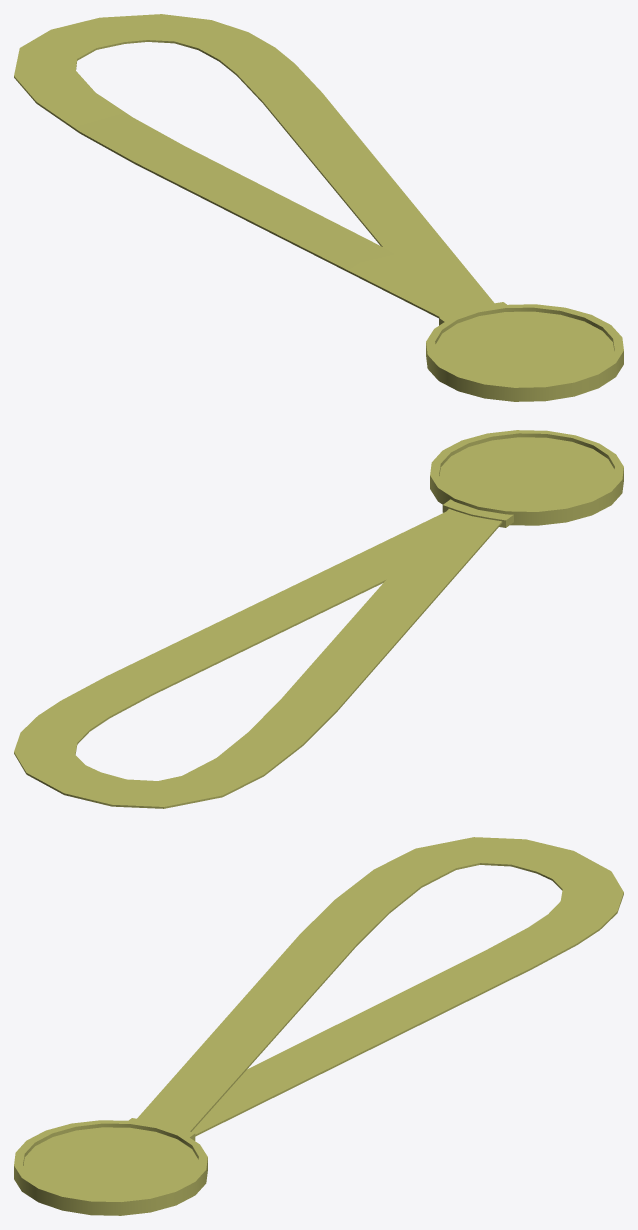
Rendered from memal1_LP.fbx.
The picture shows the model from 3 angles, top to bottom: view 1: azimuth 30°, elevation 25°; view 2: azimuth 150°, elevation 25°; view 3: azimuth 330°, elevation 25°; orthographic projection. The views are drawn at different scales.
Parts seen in each view (by area): view 1: medal1_3_LP, medal1_1_LP; view 2: medal1_3_LP, medal1_1_LP, medal1_2_LP; view 3: medal1_3_LP, medal1_1_LP.
Part boxes in pixels (x1,y1,x2,y2): medal1_3_LP: [14, 14, 494, 318]; medal1_1_LP: [426, 304, 623, 401]; medal1_3_LP: [14, 509, 502, 808]; medal1_1_LP: [430, 430, 623, 525]; medal1_2_LP: [442, 499, 513, 527]; medal1_3_LP: [137, 837, 623, 1136]; medal1_1_LP: [14, 1120, 207, 1215].
Size of the model in its own units: 14.83 by 0.8455 by 54.59.
